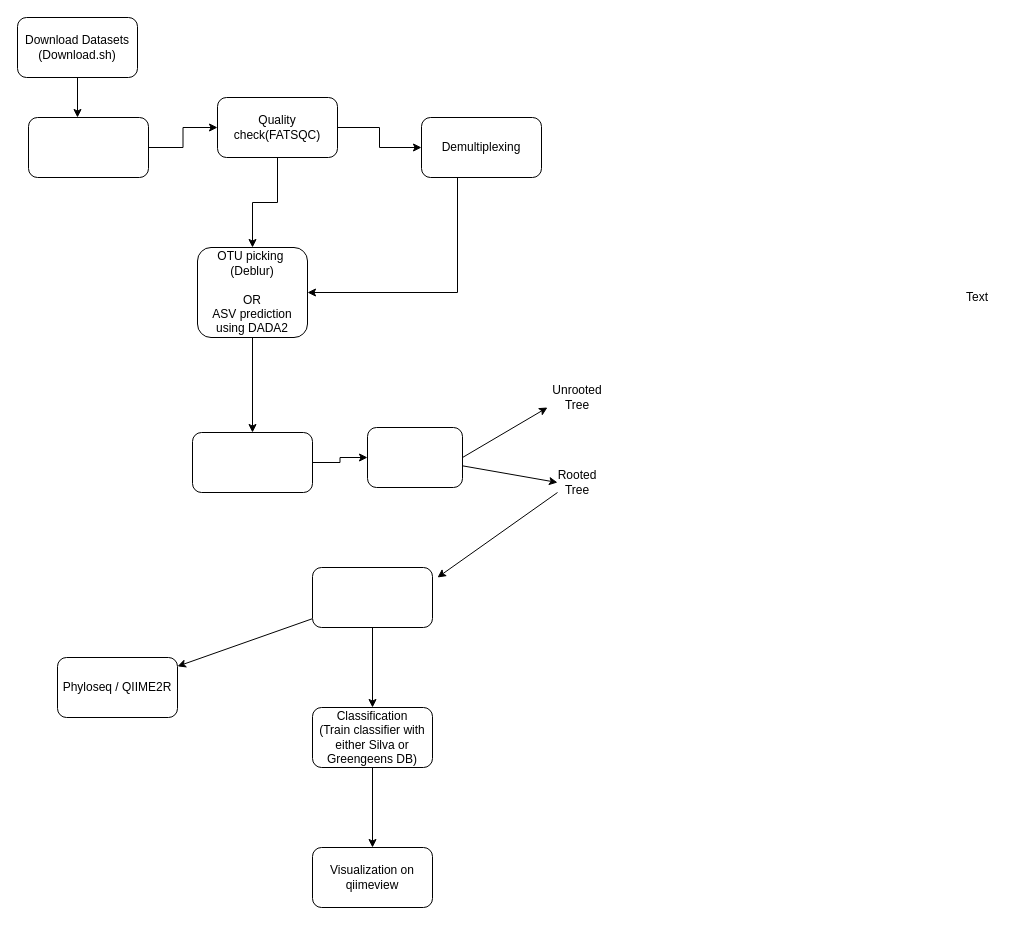
Image size: 1015x925. Some labels were removed from this diagram. The centre of each missing label's shape, as x and y in pixels:
"Alignment (MAFFT) *Masking" goes at (252,462).
"Core Metrics Analysis(Alpha And Beta Diversity)" goes at (372,597).
"Import to QIIME2 as an artifact (Formatting files, Manifestmaker.py)" goes at (88,147).
"Phylogenetic tree(FASTTREE)" goes at (414,457).
